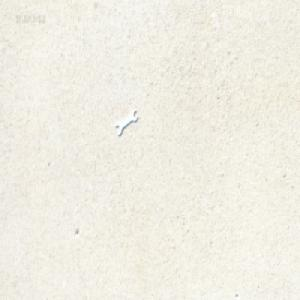Wrench: (114, 108, 136, 136)
